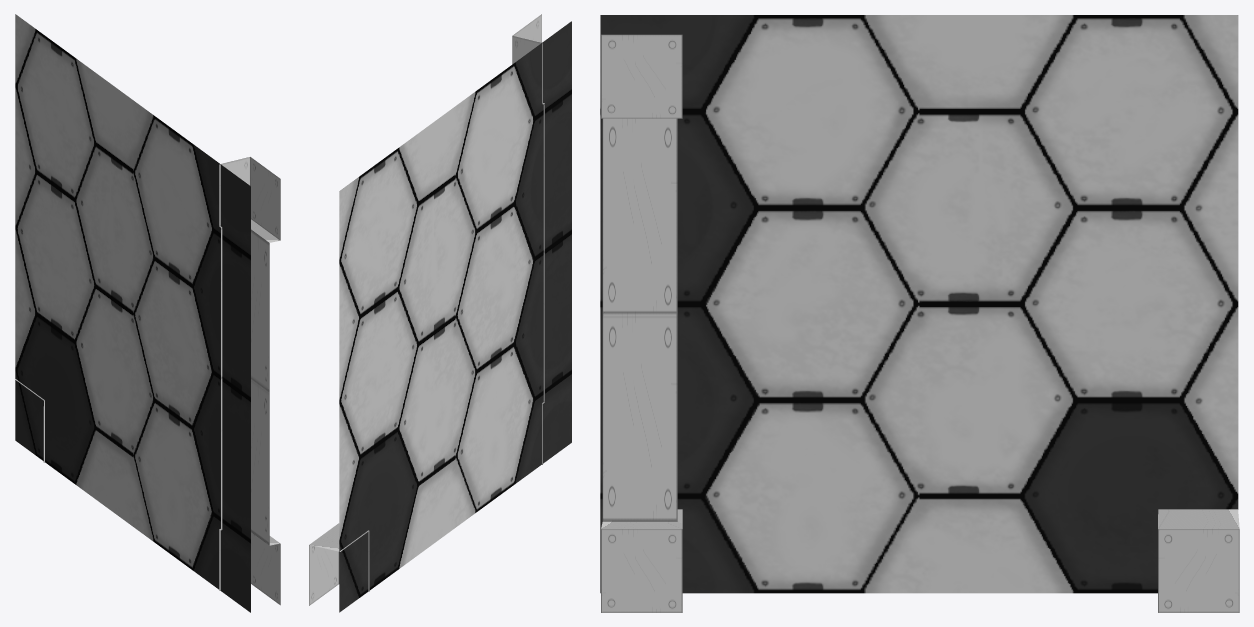
Rendered from Wall_LeverCorner.fbx.
3 views of the same model, side by side, from view 1: azimuth 30°, elevation 25°; view 2: azimuth 150°, elevation 25°; view 3: azimuth 270°, elevation 25° (orthographic). The views are drawn at different scales.
Parts seen in each view (by area): view 1: pPlane124; view 2: pPlane124; view 3: pPlane124.
Boxes of the visible parts, <box> form: pPlane124: <box>15,14,280,612</box>; pPlane124: <box>309,14,571,612</box>; pPlane124: <box>600,15,1239,612</box>.
Size of the model in its own units: 0.1534 by 2 by 2.
